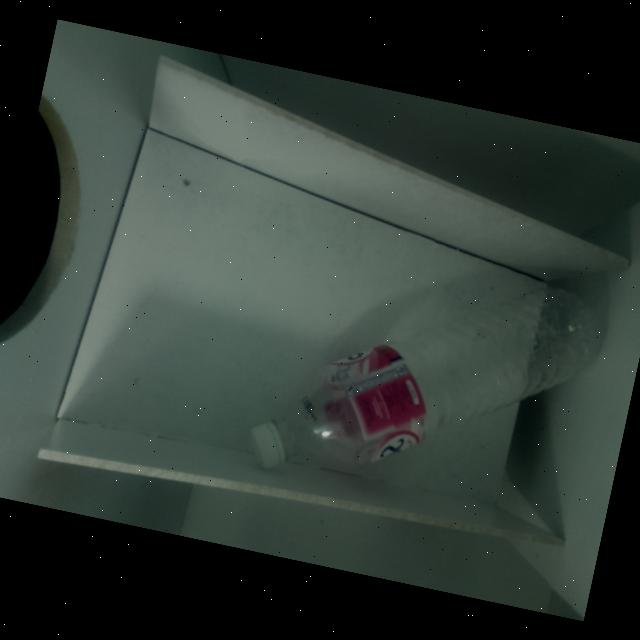trash: (230, 222, 616, 550)
